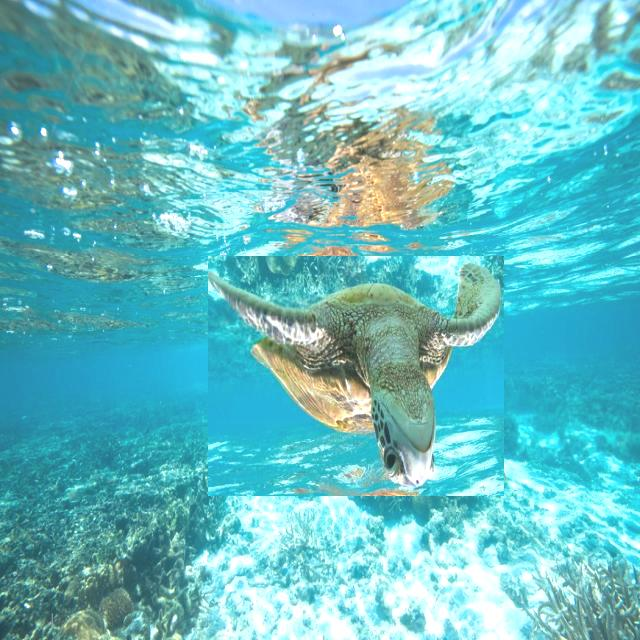Sea turtle: (208, 256, 504, 496)
